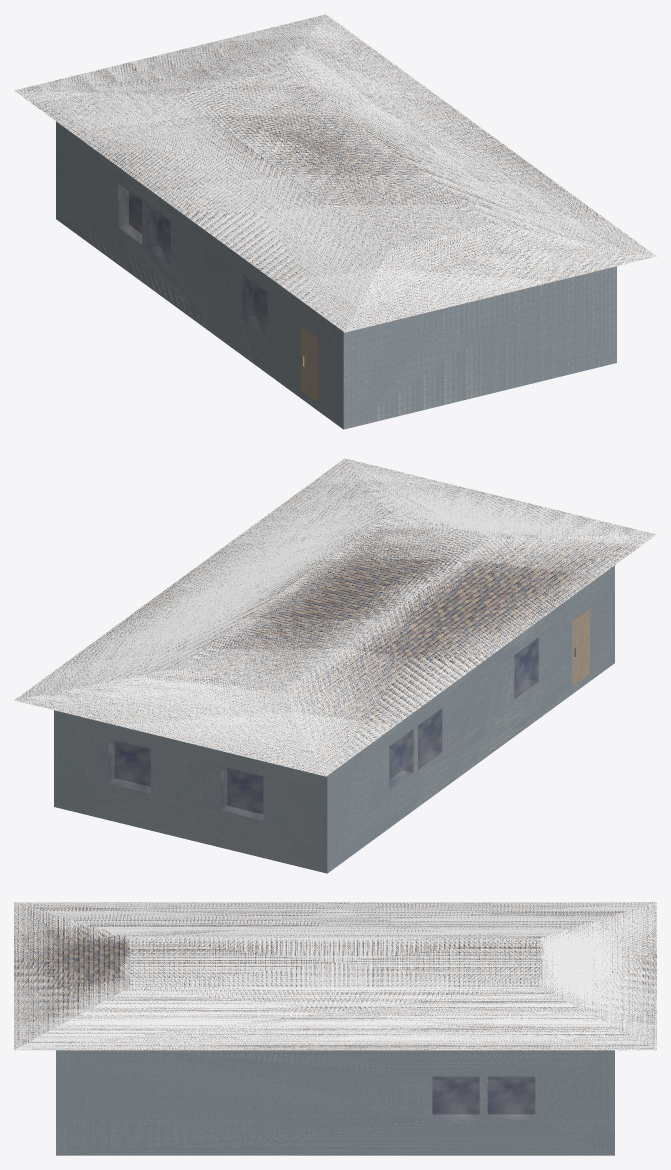
Rendered from Ranch House.fbx.
The picture shows the model from 3 angles, top to bottom: view 1: azimuth 30°, elevation 25°; view 2: azimuth 150°, elevation 25°; view 3: azimuth 270°, elevation 25°; orthographic projection. The views are drawn at different scales.
Parts seen in each view (by area): view 1: building1, door1; view 2: building1, door1; view 3: building1.
Boxes of the visible parts, box(x1,y1,x2,y2) form: building1: box(14, 14, 656, 429); door1: box(301, 326, 318, 403); building1: box(14, 458, 656, 873); door1: box(572, 609, 589, 686); building1: box(14, 902, 656, 1155).
Size of the model in its own units: 10.49 by 4.23 by 19.25.
